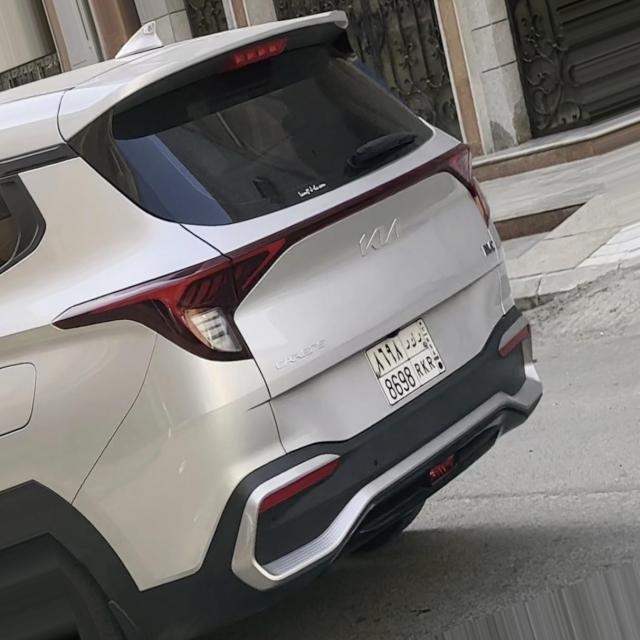Car-plate: (356, 304, 464, 409)
